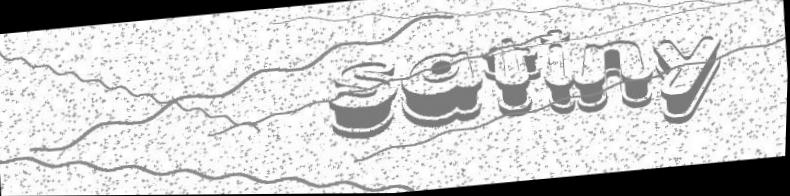a: (395, 47, 489, 134)
i: (535, 26, 579, 116)
n: (569, 34, 657, 116)
s: (322, 54, 403, 142)
t: (479, 34, 547, 122)
y: (648, 30, 731, 129)
